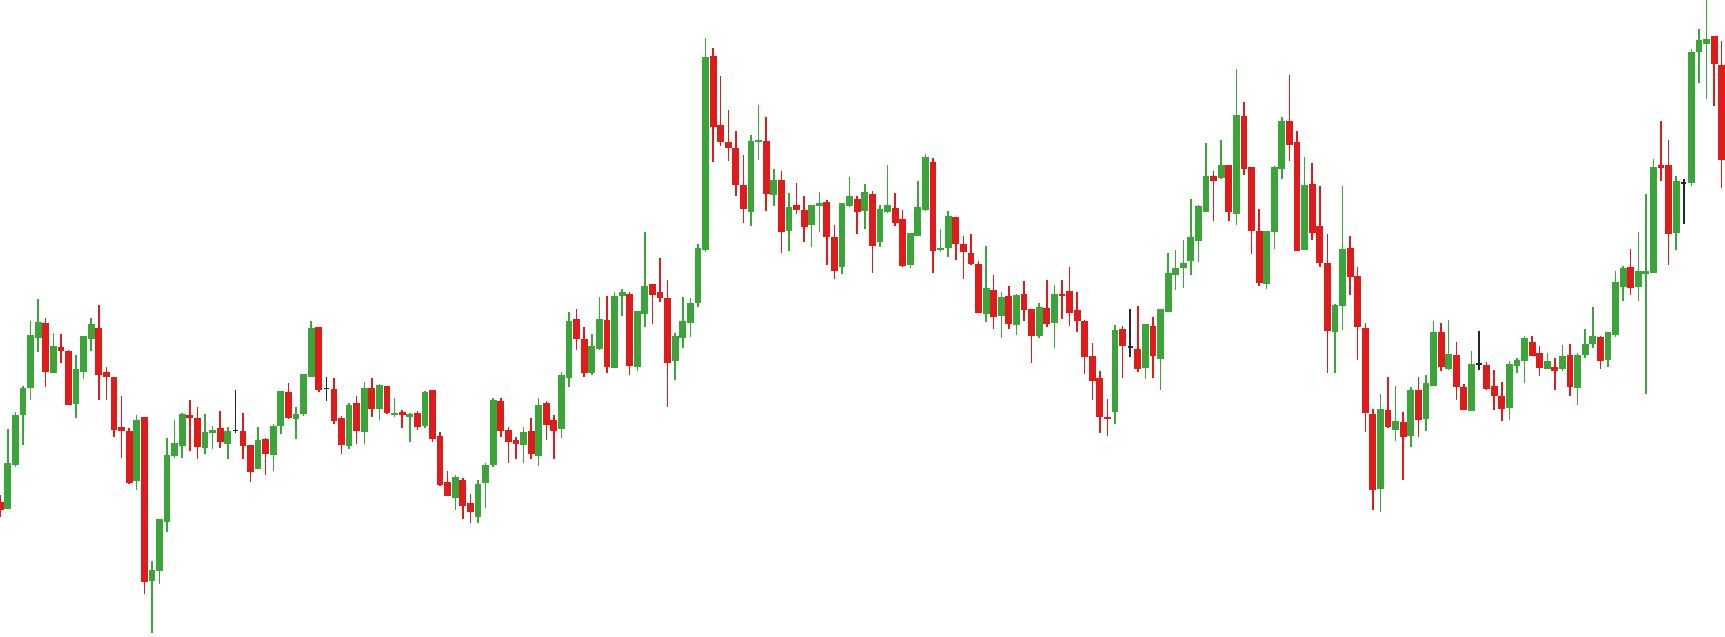buy: (626, 285, 682, 417), (1460, 362, 1515, 428)
sell: (1242, 67, 1296, 207), (882, 139, 940, 244)
